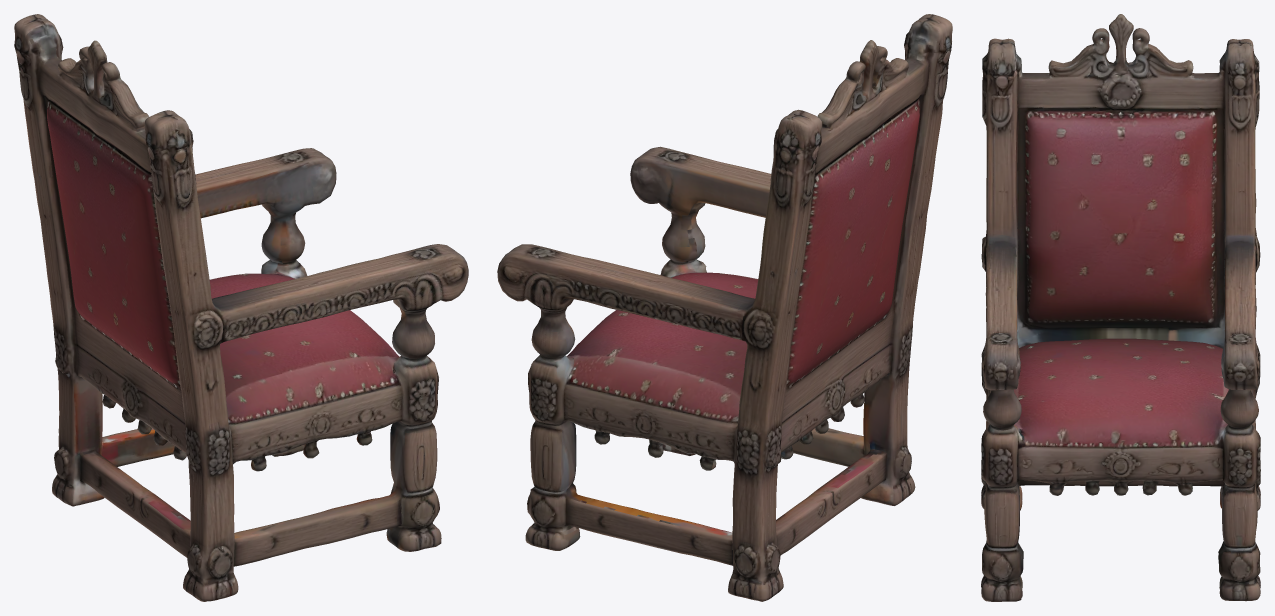
File: chair_tripo_convert_456147d3-3f6d-4ac2-8abe-a5e80cc5b9da.fbx
The picture shows the model from 3 angles, left to right: view 1: azimuth 30°, elevation 25°; view 2: azimuth 150°, elevation 25°; view 3: azimuth 270°, elevation 25°; orthographic projection. The views are drawn at different scales.
Parts seen in each view (by area): view 1: tripo_node_456147d3; view 2: tripo_node_456147d3; view 3: tripo_node_456147d3.
Boxes of the visible parts, x1,y1,x2,y2 form: tripo_node_456147d3: (14,14,468,601); tripo_node_456147d3: (497,14,952,601); tripo_node_456147d3: (981,14,1260,601).
Size of the model in its own units: 63.62 by 99.73 by 54.04.
1 material, 1 textured.
